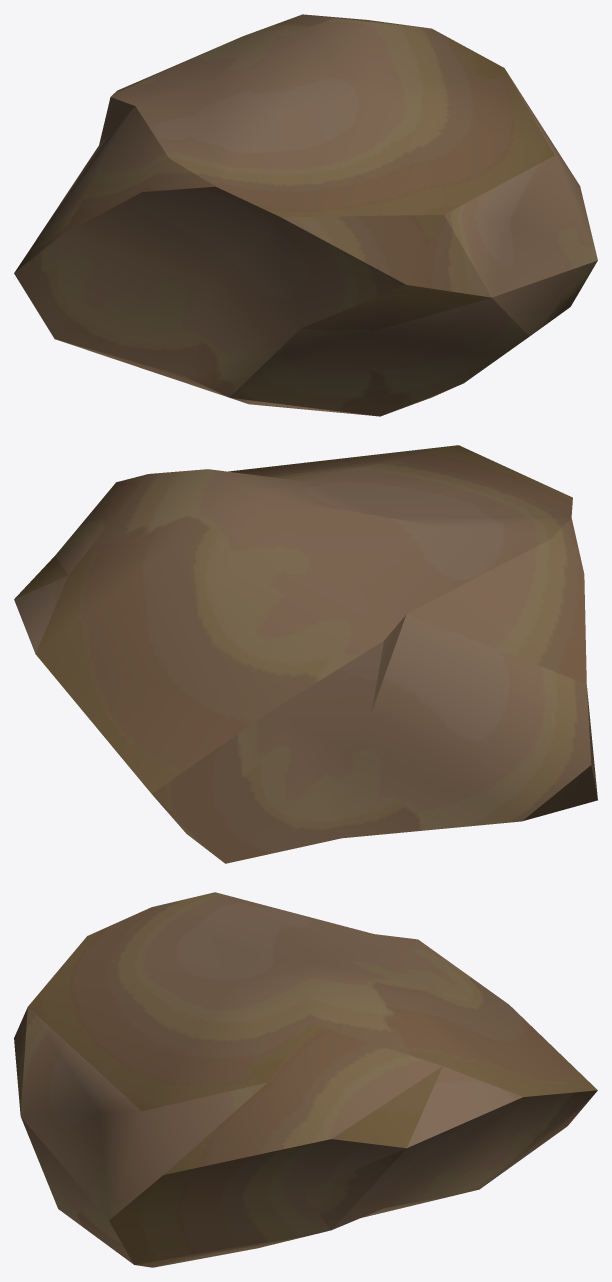
The model's file is Rock2.FBX.
3 renders of one model, top to bottom at view 1: azimuth 30°, elevation 25°; view 2: azimuth 150°, elevation 25°; view 3: azimuth 270°, elevation 25°, orthographic. The views are drawn at different scales.
Parts seen in each view (by area): view 1: Rock_3_Big; view 2: Rock_3_Big; view 3: Rock_3_Big.
Part boxes in pixels (bbox=[...]): Rock_3_Big: bbox=[14, 14, 597, 416]; Rock_3_Big: bbox=[14, 445, 597, 863]; Rock_3_Big: bbox=[14, 892, 597, 1267].
Bounding box in the file's own units: 170 × 107 × 183.
